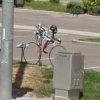Bicycle: (16, 20, 61, 69)
